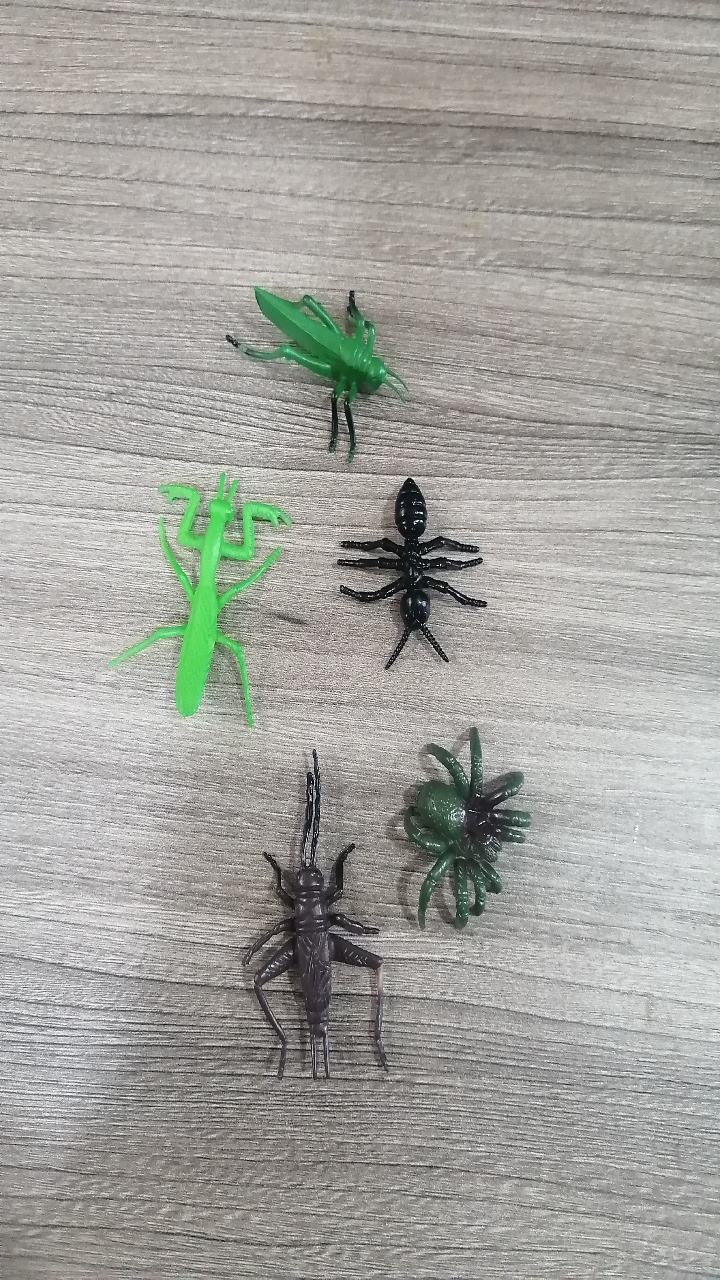intruso: (217, 742, 432, 1146), (89, 426, 314, 740), (201, 212, 438, 462), (309, 443, 501, 680), (380, 685, 548, 934)
